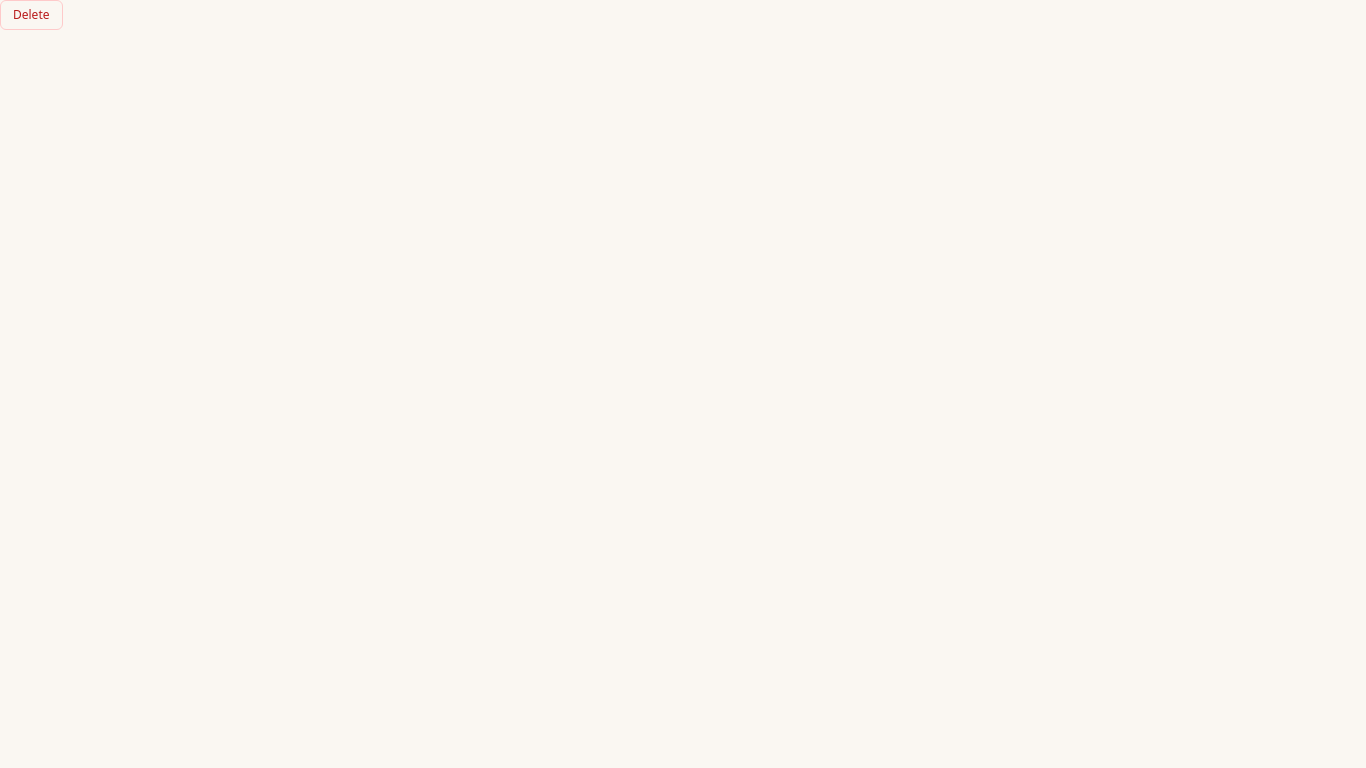
Test: admin UX/a11y audit fixes › ConfirmButton is a real dialog: Escape cancels and double submit is guarded
Click the button with test id "probe" at x=31, y=15, box top-left (0, 0), bottom-right (62, 30)
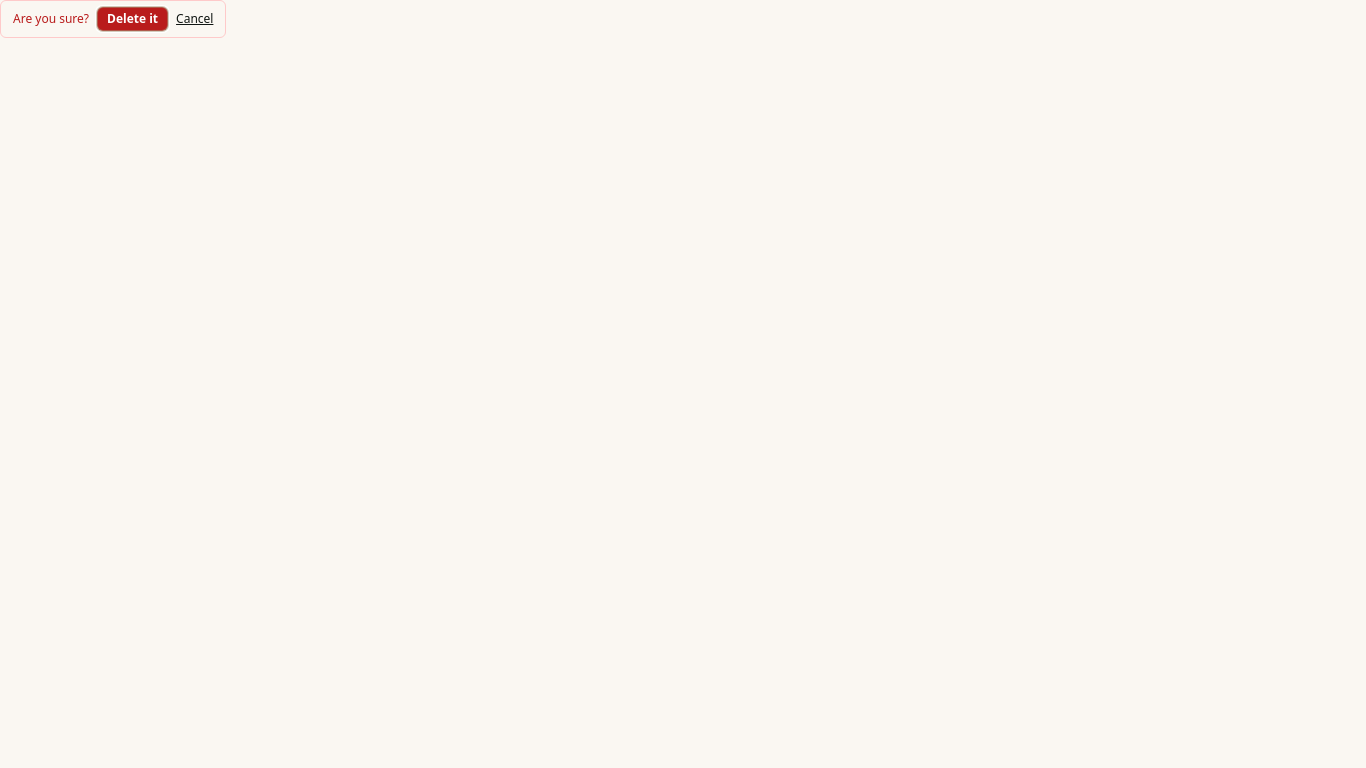
Press Escape
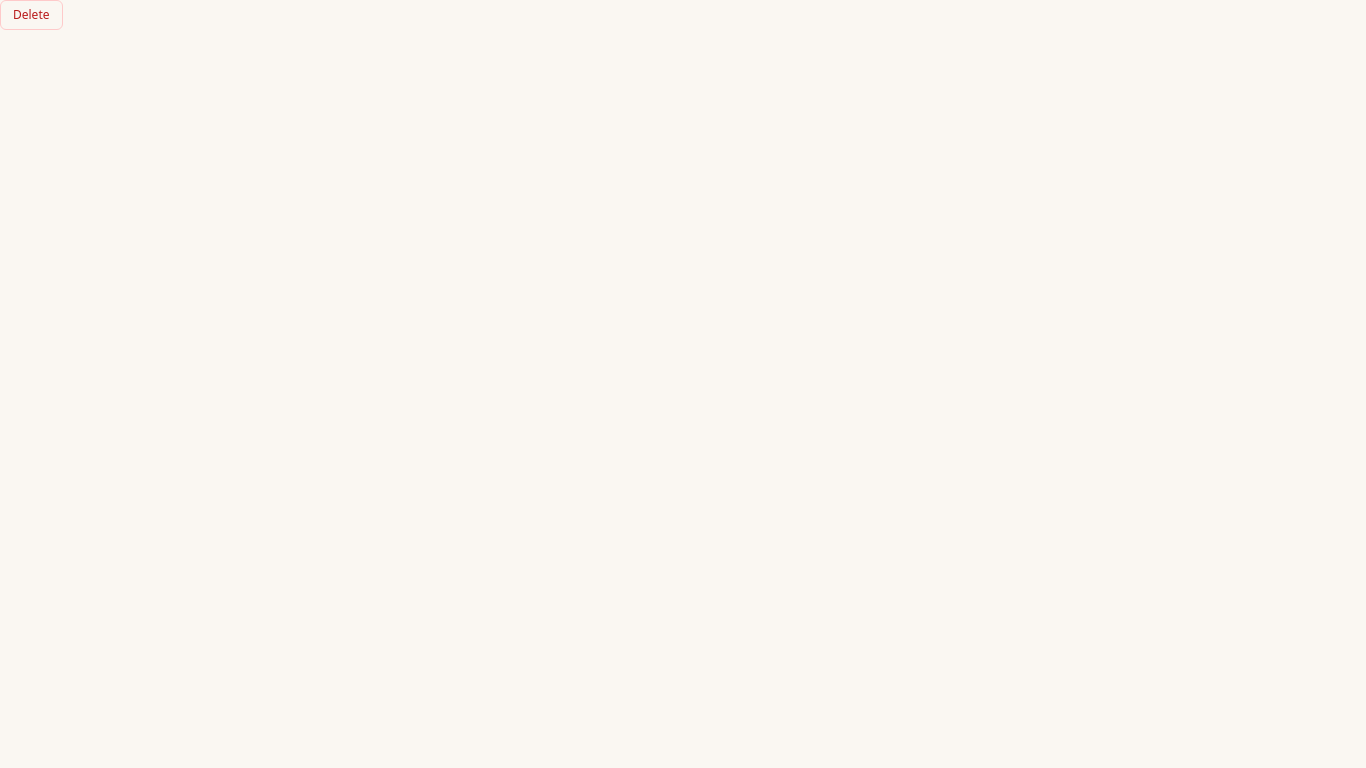
Result: the dialog is gone
Click the button with test id "probe" at x=31, y=15, box top-left (0, 0), bottom-right (62, 30)
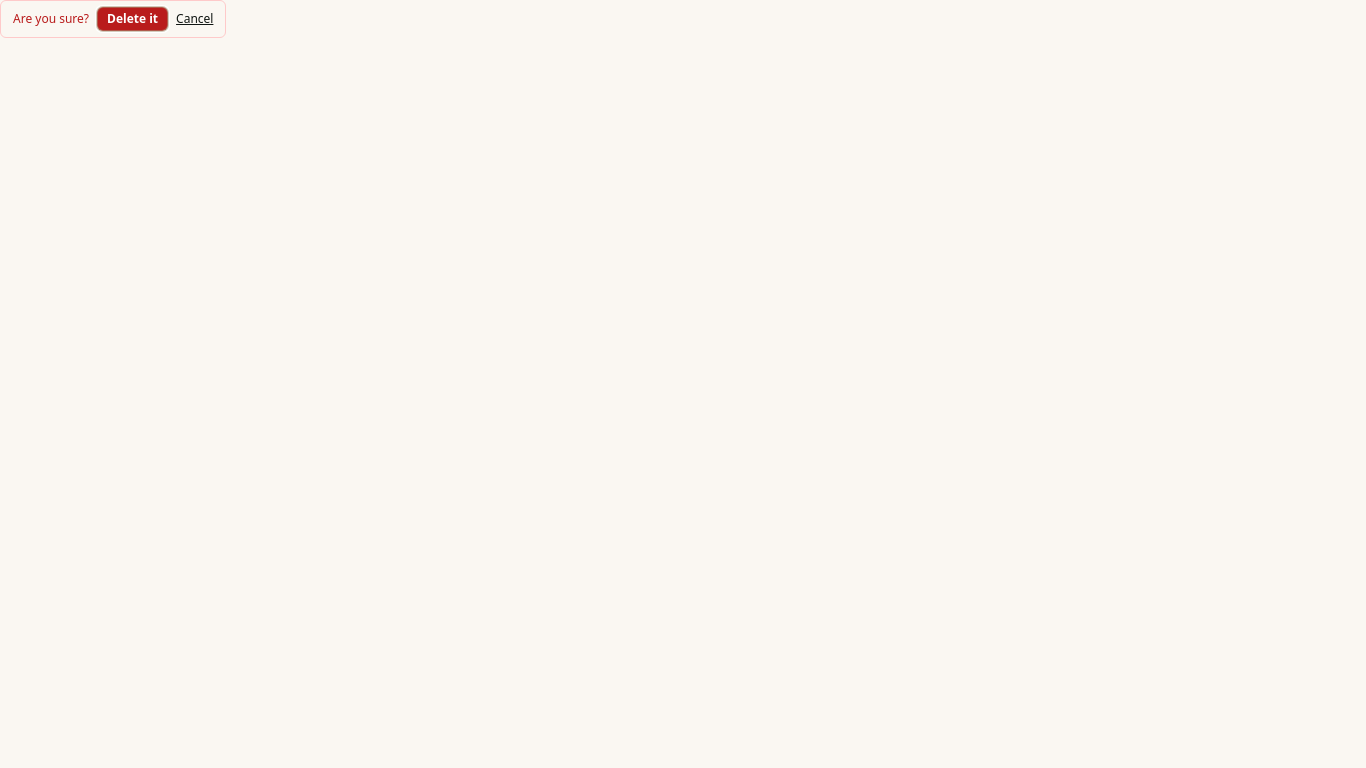
Click the button with test id "probe-confirm" at x=132, y=19, box top-left (97, 7), bottom-right (168, 31)
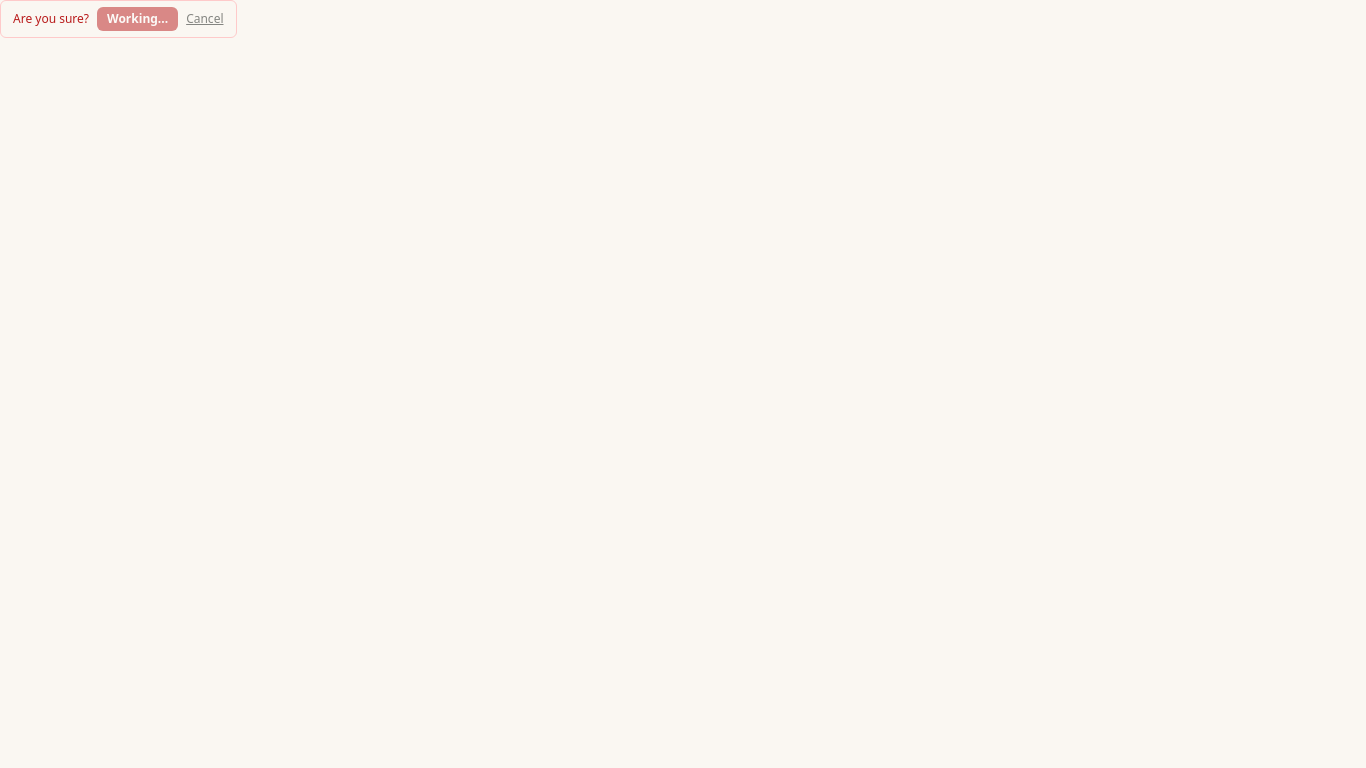
Click the button with test id "probe-confirm" at x=138, y=19, box top-left (97, 7), bottom-right (178, 31)
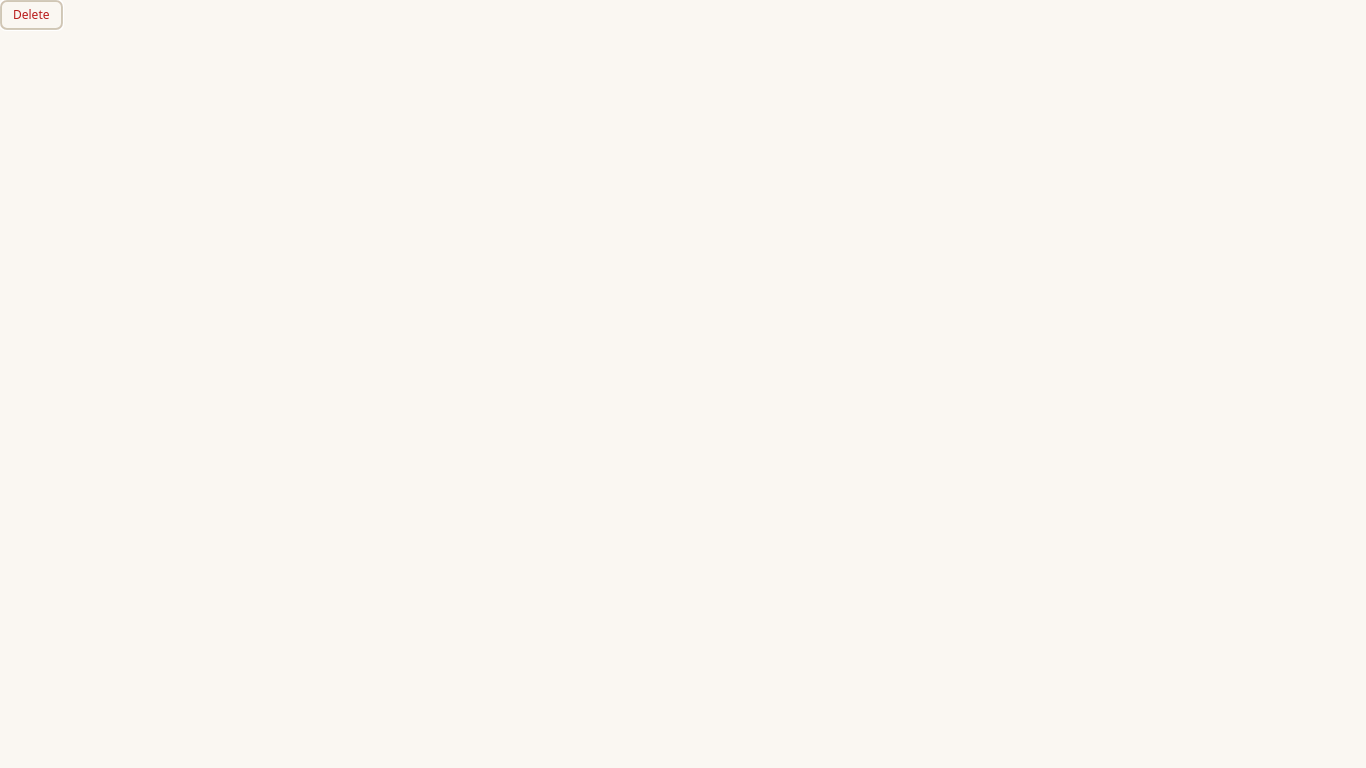
Result: the dialog is gone
